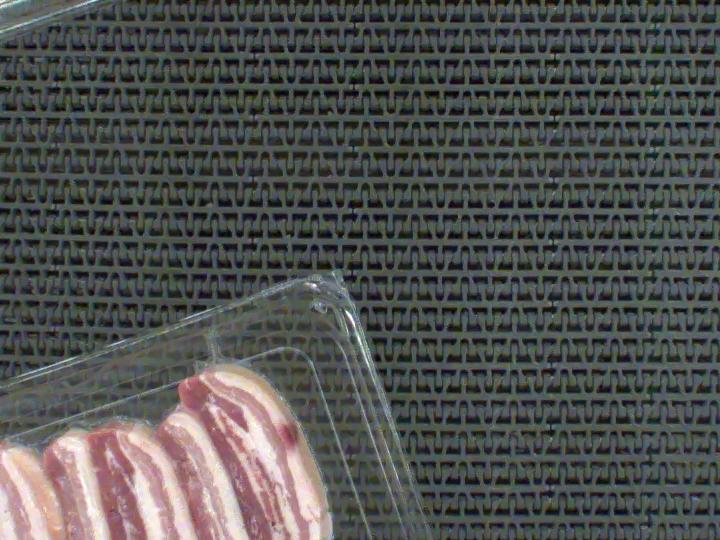unsealed: (0, 354, 356, 468)
